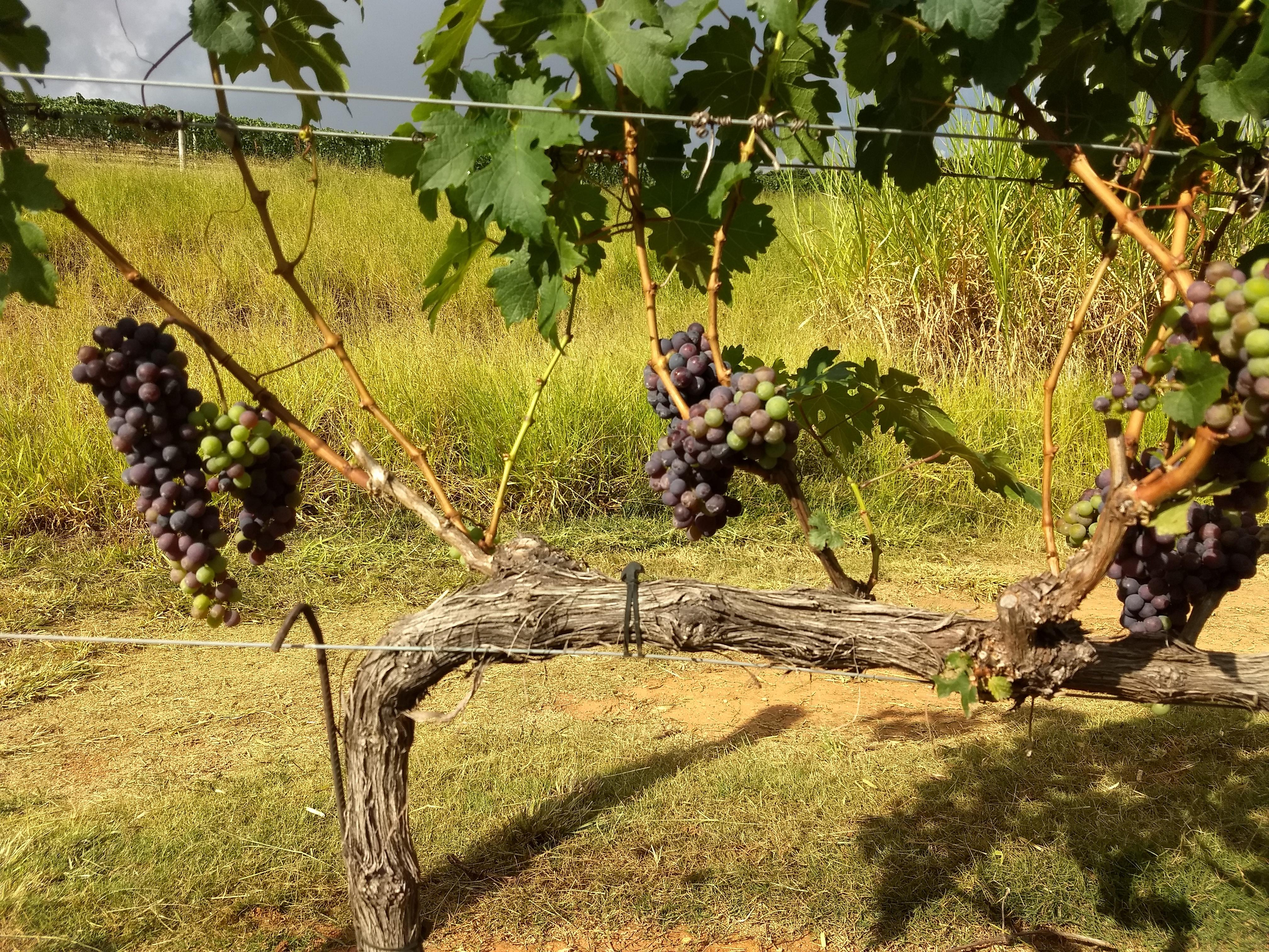leaf: (190, 0, 348, 101), (536, 0, 674, 108), (415, 0, 485, 98), (1161, 344, 1228, 427), (0, 0, 49, 72), (808, 510, 843, 551), (298, 95, 321, 123), (18, 79, 32, 96), (0, 298, 2, 299)
